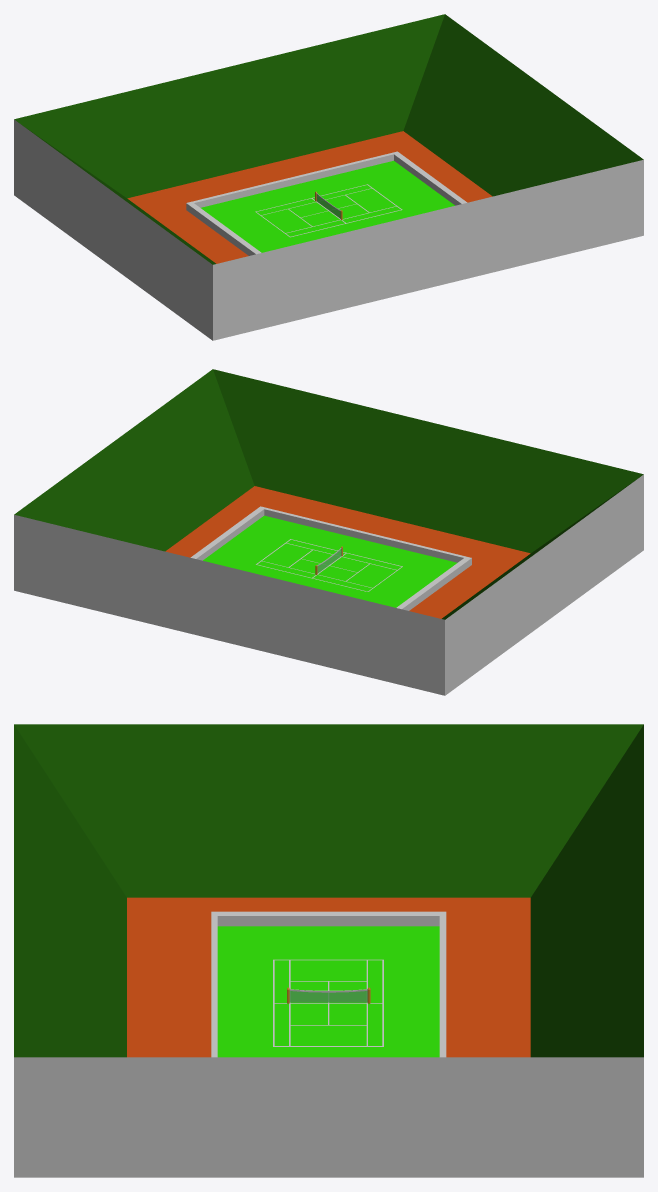
File: tennis.fbx
3 renders of one model, top to bottom at view 1: azimuth 30°, elevation 25°; view 2: azimuth 150°, elevation 25°; view 3: azimuth 270°, elevation 25°, orthographic. The views are drawn at different scales.
Parts seen in each view (by area): view 1: Cube; view 2: Cube; view 3: Cube, Cube.001.
Part boxes in pixels (x1=…): Cube: x1=14, y1=14, x2=643, y2=340; Cube: x1=14, y1=369, x2=643, y2=695; Cube: x1=14, y1=724, x2=643, y2=1177; Cube.001: x1=287, y1=987, x2=370, y2=1003.
Size of the model in its own units: 3517 by 592 by 2810.
